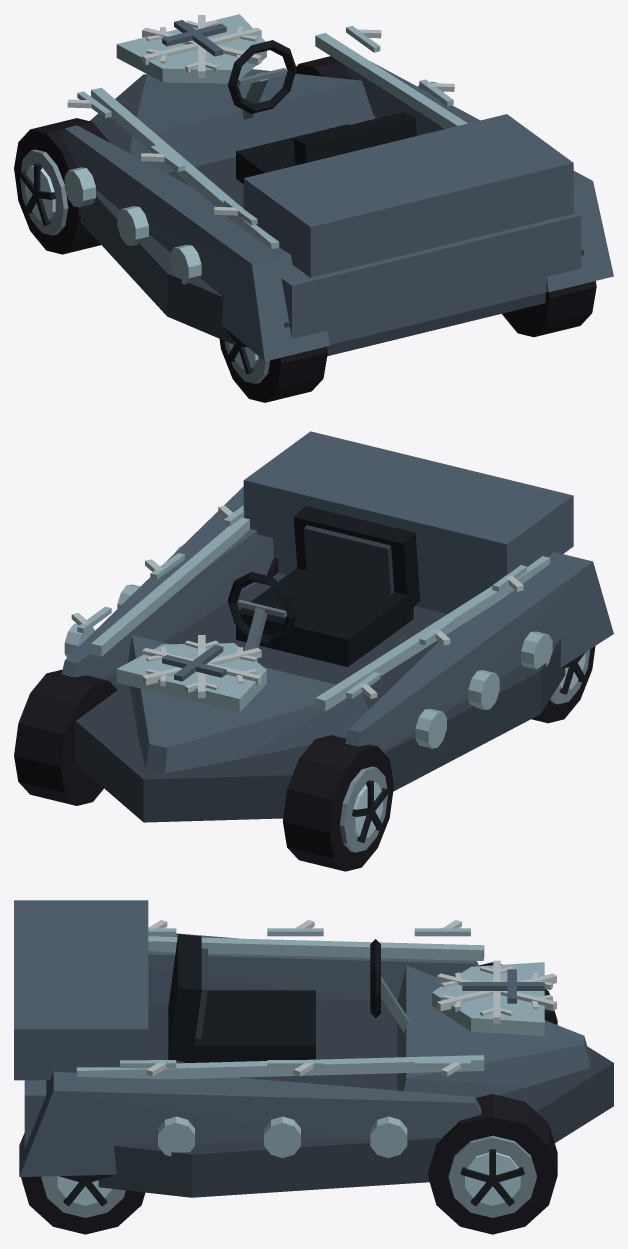
File: kart.glb
The picture shows the model from 3 angles, top to bottom: view 1: azimuth 30°, elevation 25°; view 2: azimuth 150°, elevation 25°; view 3: azimuth 270°, elevation 25°; orthographic projection.
Visible parts, largest first — view 1: identity-ship-ship-pointed-bow-and-raised-stern, identity-ship-driver-cockpit, wheel-front-left, identity-ship-motif-shield, wheel-rear-left, wheel-rear-right, identity-ship-motif-runes, identity-ship-motif-snow, wheel-front-right; view 2: identity-ship-ship-pointed-bow-and-raised-stern, identity-ship-driver-cockpit, wheel-front-left, wheel-front-right, identity-ship-motif-shield, identity-ship-motif-runes, identity-ship-motif-snow, wheel-rear-left; view 3: identity-ship-ship-pointed-bow-and-raised-stern, identity-ship-driver-cockpit, wheel-front-right, identity-ship-motif-shield, wheel-rear-right, identity-ship-motif-runes, identity-ship-motif-snow.
Part boxes in pixels (x1,y1,x2,y2): identity-ship-ship-pointed-bow-and-raised-stern: (61, 33, 613, 361); identity-ship-driver-cockpit: (227, 40, 416, 183); wheel-front-left: (14, 118, 109, 254); identity-ship-motif-shield: (116, 14, 266, 83); wheel-rear-left: (219, 328, 327, 402); wheel-rear-right: (502, 281, 596, 337); identity-ship-motif-runes: (67, 26, 454, 225); identity-ship-motif-snow: (142, 15, 261, 77); wheel-front-right: (295, 56, 352, 79); identity-ship-ship-pointed-bow-and-raised-stern: (61, 431, 613, 822); identity-ship-driver-cockpit: (227, 506, 420, 666); wheel-front-left: (282, 735, 393, 871); wheel-front-right: (14, 669, 117, 805); identity-ship-motif-shield: (116, 643, 266, 712); identity-ship-motif-runes: (71, 505, 526, 698); identity-ship-motif-snow: (142, 635, 261, 698); wheel-rear-left: (531, 646, 595, 723); identity-ship-ship-pointed-bow-and-raised-stern: (14, 900, 613, 1197); identity-ship-driver-cockpit: (168, 934, 409, 1063); wheel-front-right: (427, 1094, 557, 1234); identity-ship-motif-shield: (432, 962, 544, 1036); wheel-rear-right: (21, 1174, 145, 1234); identity-ship-motif-runes: (120, 920, 470, 1076); identity-ship-motif-snow: (437, 960, 556, 1024).
Size of the model in its own units: 2 by 1.09 by 2.77.
